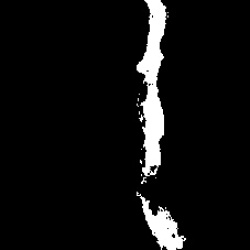crack: (139, 1, 168, 182), (135, 192, 184, 247)
